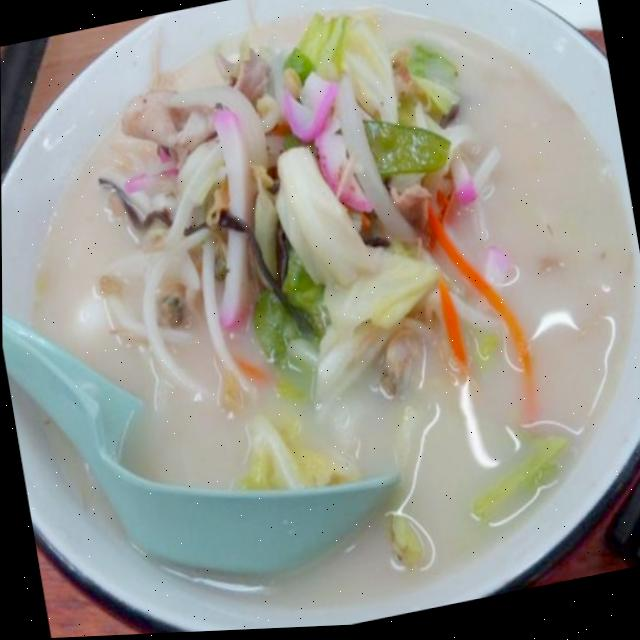炸货点心: (62, 0, 526, 638)
熟制海鲜: (62, 0, 526, 638)
